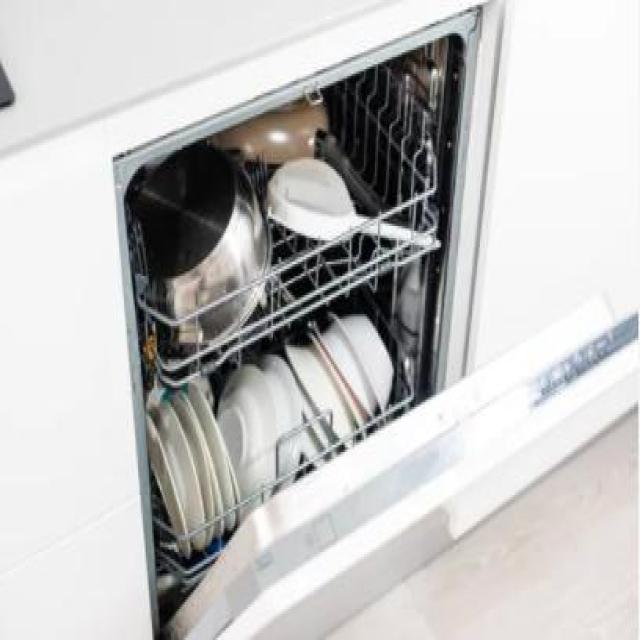dishwasher: (112, 0, 500, 638)
